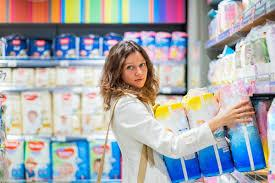Normal: (23, 11, 261, 176)
